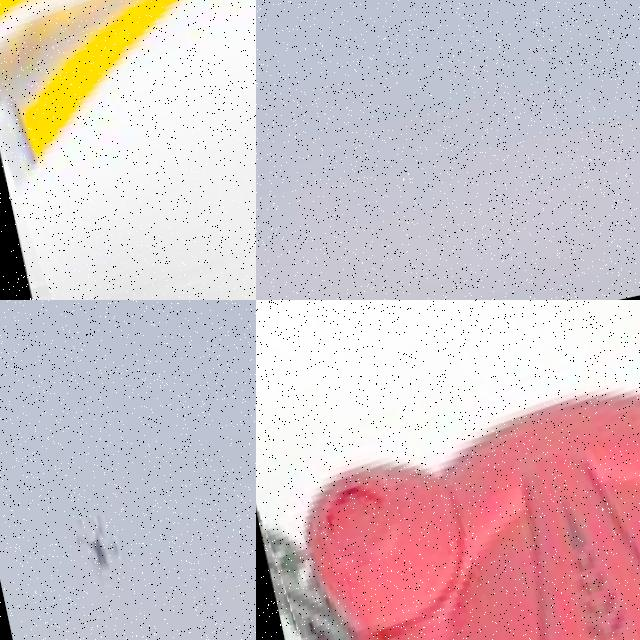drone: (256, 300, 640, 640), (0, 0, 256, 300)
